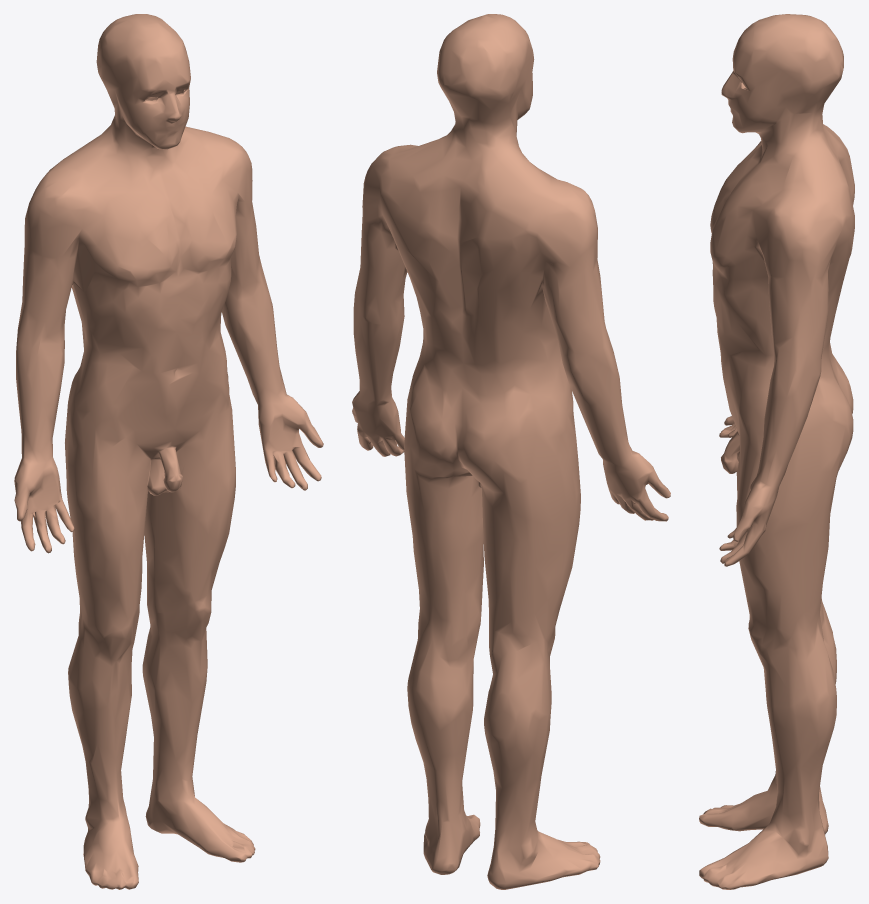
File: skin.glb
3 renders of one model, left to right at view 1: azimuth 30°, elevation 25°; view 2: azimuth 150°, elevation 25°; view 3: azimuth 270°, elevation 25°, orthographic. The views are drawn at different scales.
Visible parts, largest first — view 1: skin; view 2: skin; view 3: skin.
Part boxes in pixels (x1=…): skin: x1=14, y1=14, x2=323, y2=889; skin: x1=352, y1=14, x2=670, y2=889; skin: x1=699, y1=14, x2=854, y2=889.
Bounding box in the file's own units: 0.6662 × 1.72 × 0.2912.
